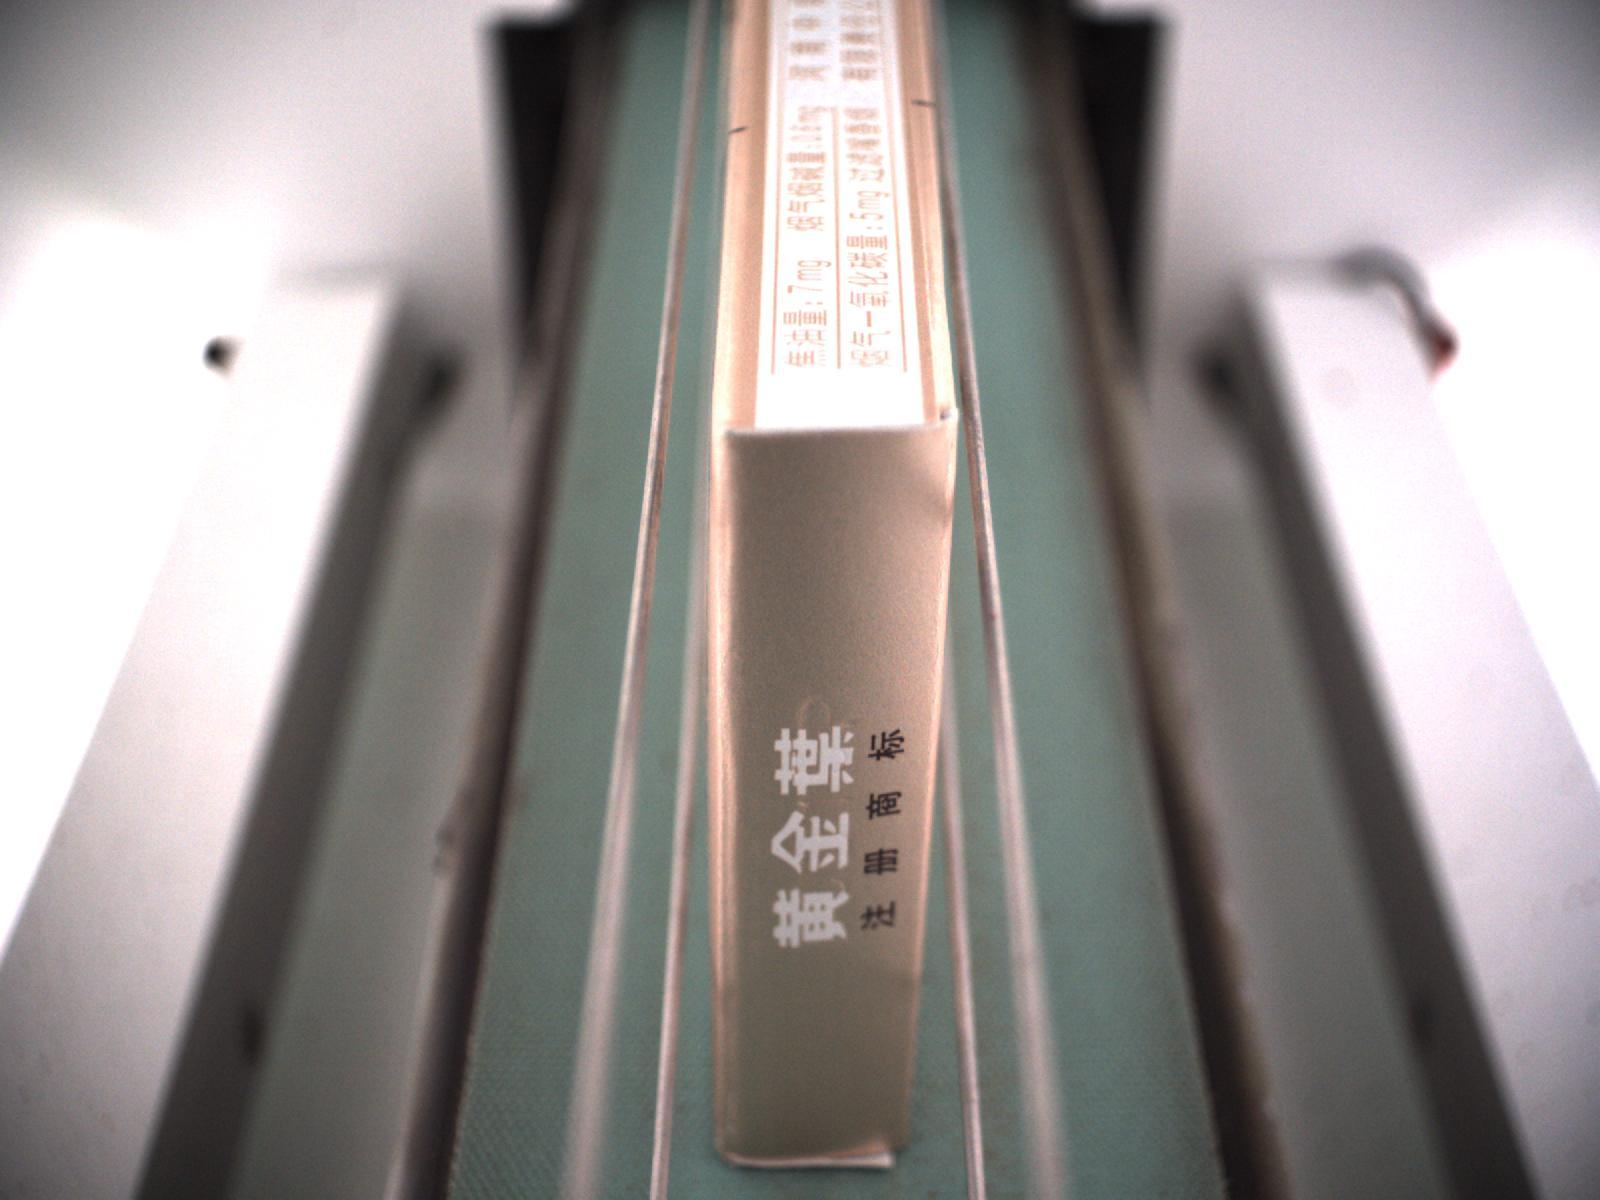skewed_bottom_3: (719, 1139, 902, 1172)
skewed_upper_3: (898, 0, 964, 446)
